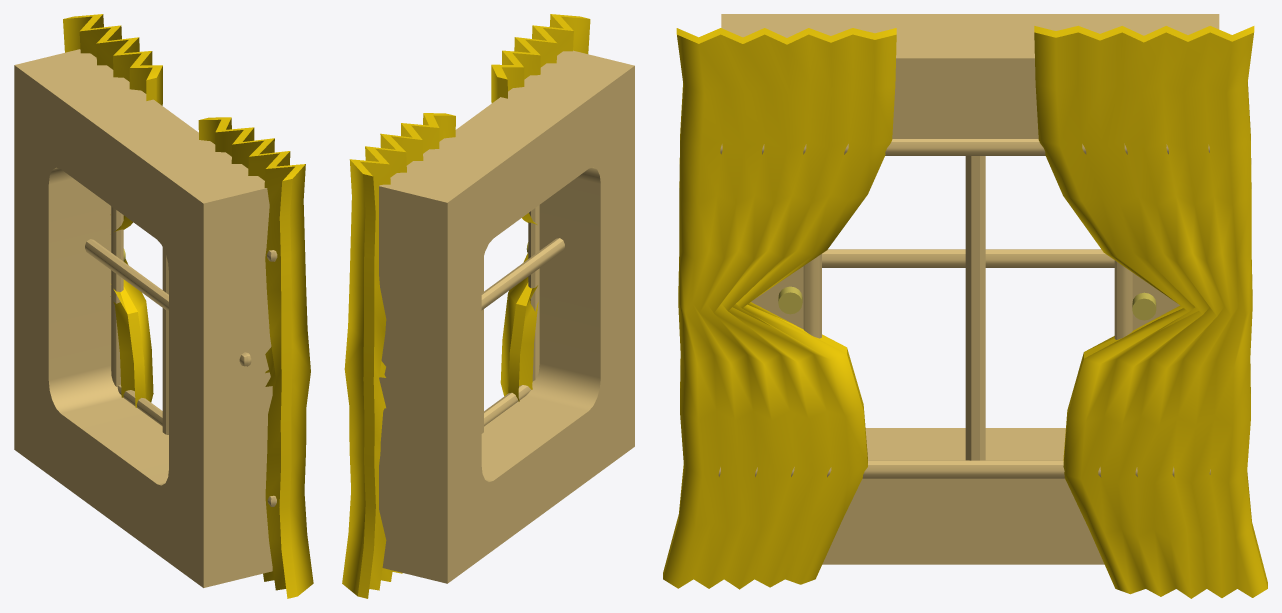
File: Arka_Plan.fbx
3 renders of one model, left to right at view 1: azimuth 30°, elevation 25°; view 2: azimuth 150°, elevation 25°; view 3: azimuth 270°, elevation 25°, orthographic. The views are drawn at different scales.
Visible parts, largest first — view 1: pCube6, Perde, Perde1, pCube1, pCube13, pCube14, pCube16; view 2: pCube6, Perde1, Perde, pCube1, pCube2, pCube16, pCube14; view 3: Perde1, Perde, pCube6, pCube14, pCube1, pCube16, pCube15, pCube2, pCube13.
Boxes of the visible parts, x1,y1,x2,y2 form: pCube6: (14,49,272,587); Perde: (198,117,313,598); Perde1: (63,14,162,407); pCube1: (85,239,251,366); pCube13: (111,206,123,386); pCube14: (162,247,168,434); pCube16: (117,384,276,506); pCube6: (379,50,634,583); Perde1: (342,113,455,598); Perde: (491,14,590,401); pCube1: (481,238,564,310); pCube2: (528,205,539,381); pCube16: (484,382,532,426); pCube14: (481,257,483,433); Perde1: (1034,25,1267,598); Perde: (663,28,896,589); pCube6: (721,14,1219,564); pCube14: (965,156,985,460); pCube1: (822,249,1114,267); pCube16: (718,460,1210,478); pCube15: (720,139,1209,155); pCube2: (803,254,821,338); pCube13: (1114,260,1132,339).
Size of the model in its own units: 3.02 by 12.8 by 12.49.
